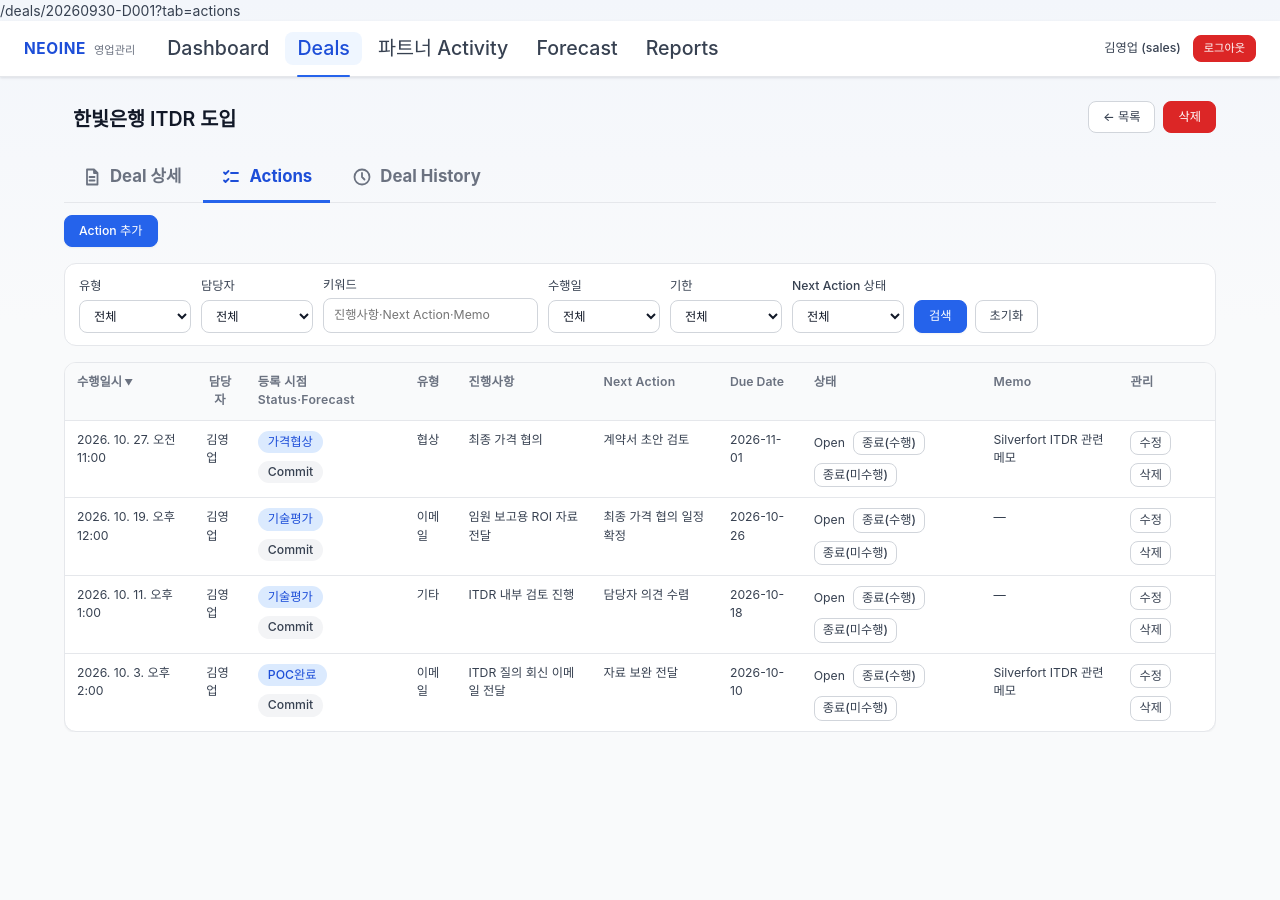
Test: Action 추가 등록 (T-ACTION-02~05) › fills the progress with the previous next action
Expected: the heading "한빛은행 ITDR 도입" is shown, [64, 101, 245, 138]
What coordinates should you click on to do the following:
click the button "Action 추가"
I would click on:
 (111, 231)
Its box is [64, 215, 158, 247].
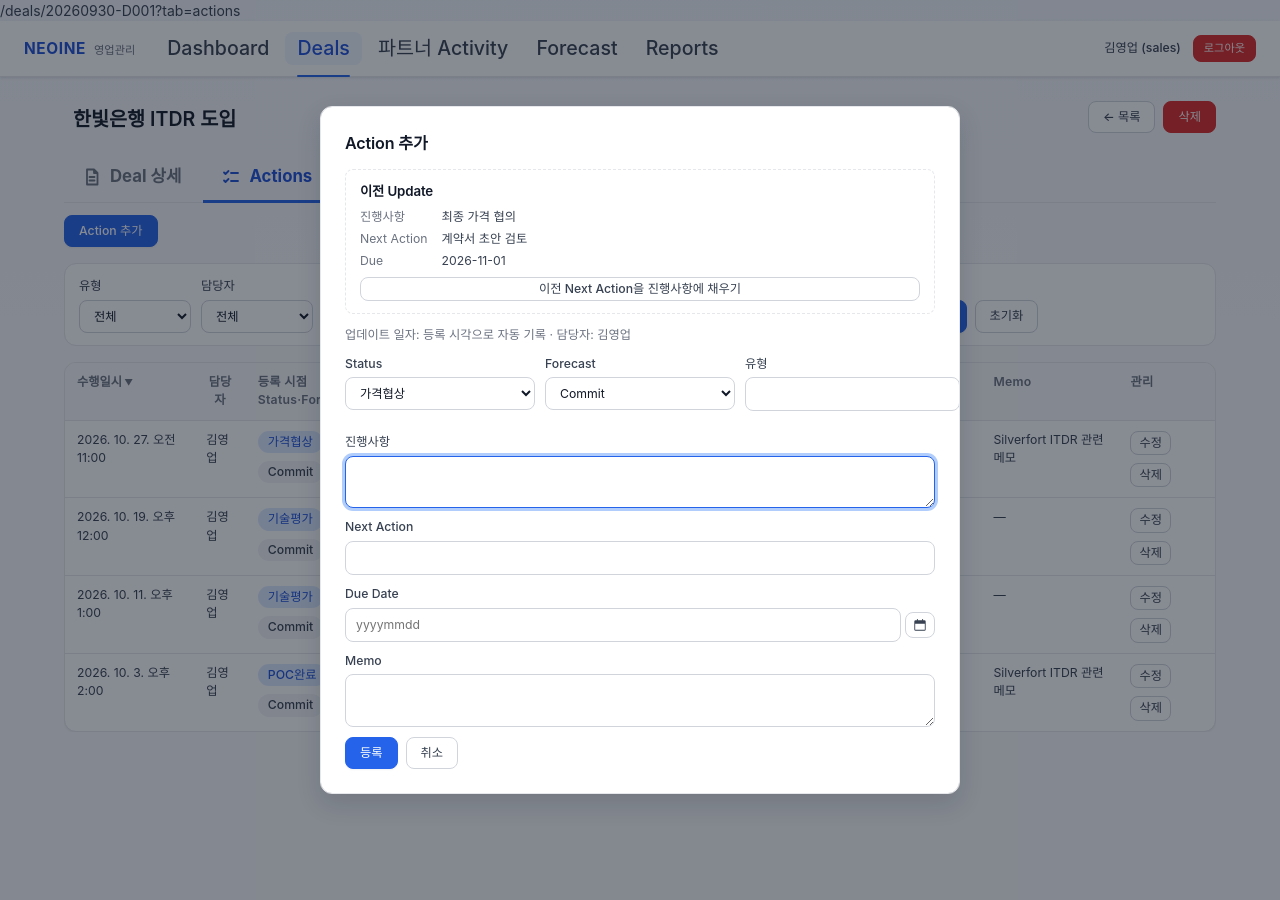
What coordinates should you click on to do the following:
click the button "이전 Next Action을 진행사항에 채우기"
I would click on:
 (640, 289)
Its box is [360, 277, 920, 301].
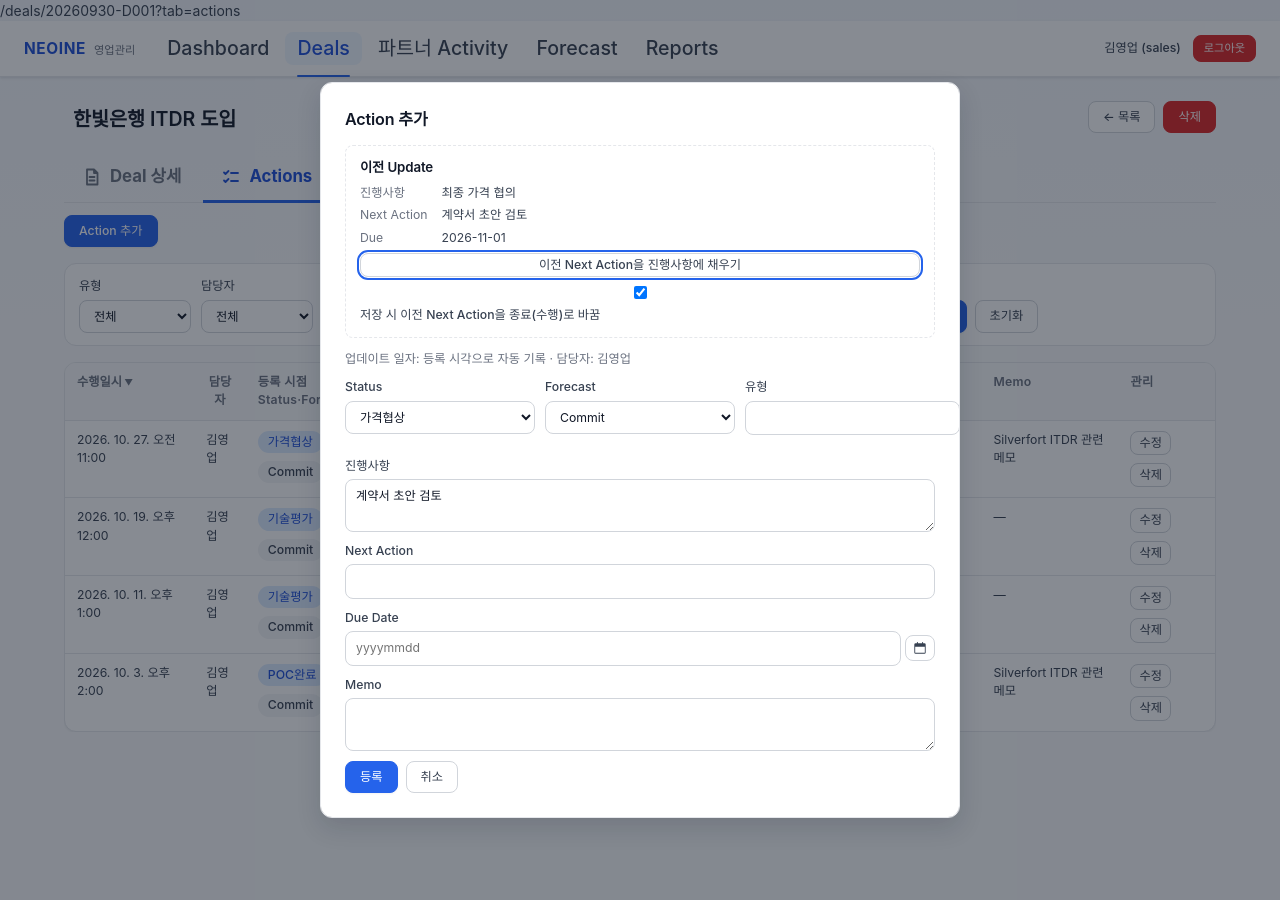
Expected: the text box labelled "진행사항" holds "계약서 초안 검토", [345, 479, 935, 532]
